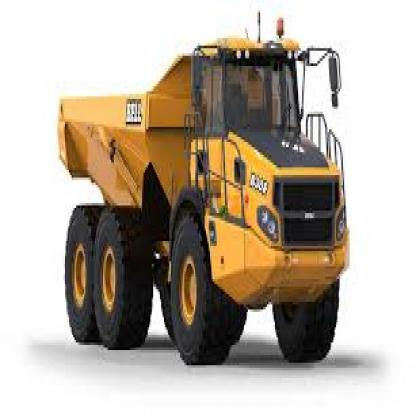dump_truck: (38, 15, 352, 381)
